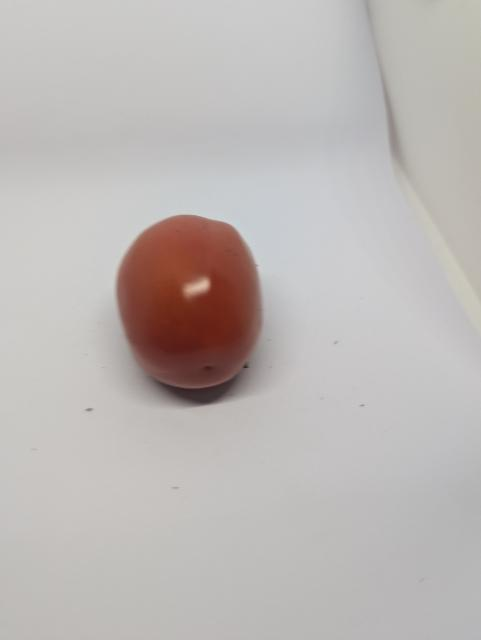red: (109, 207, 269, 401)
